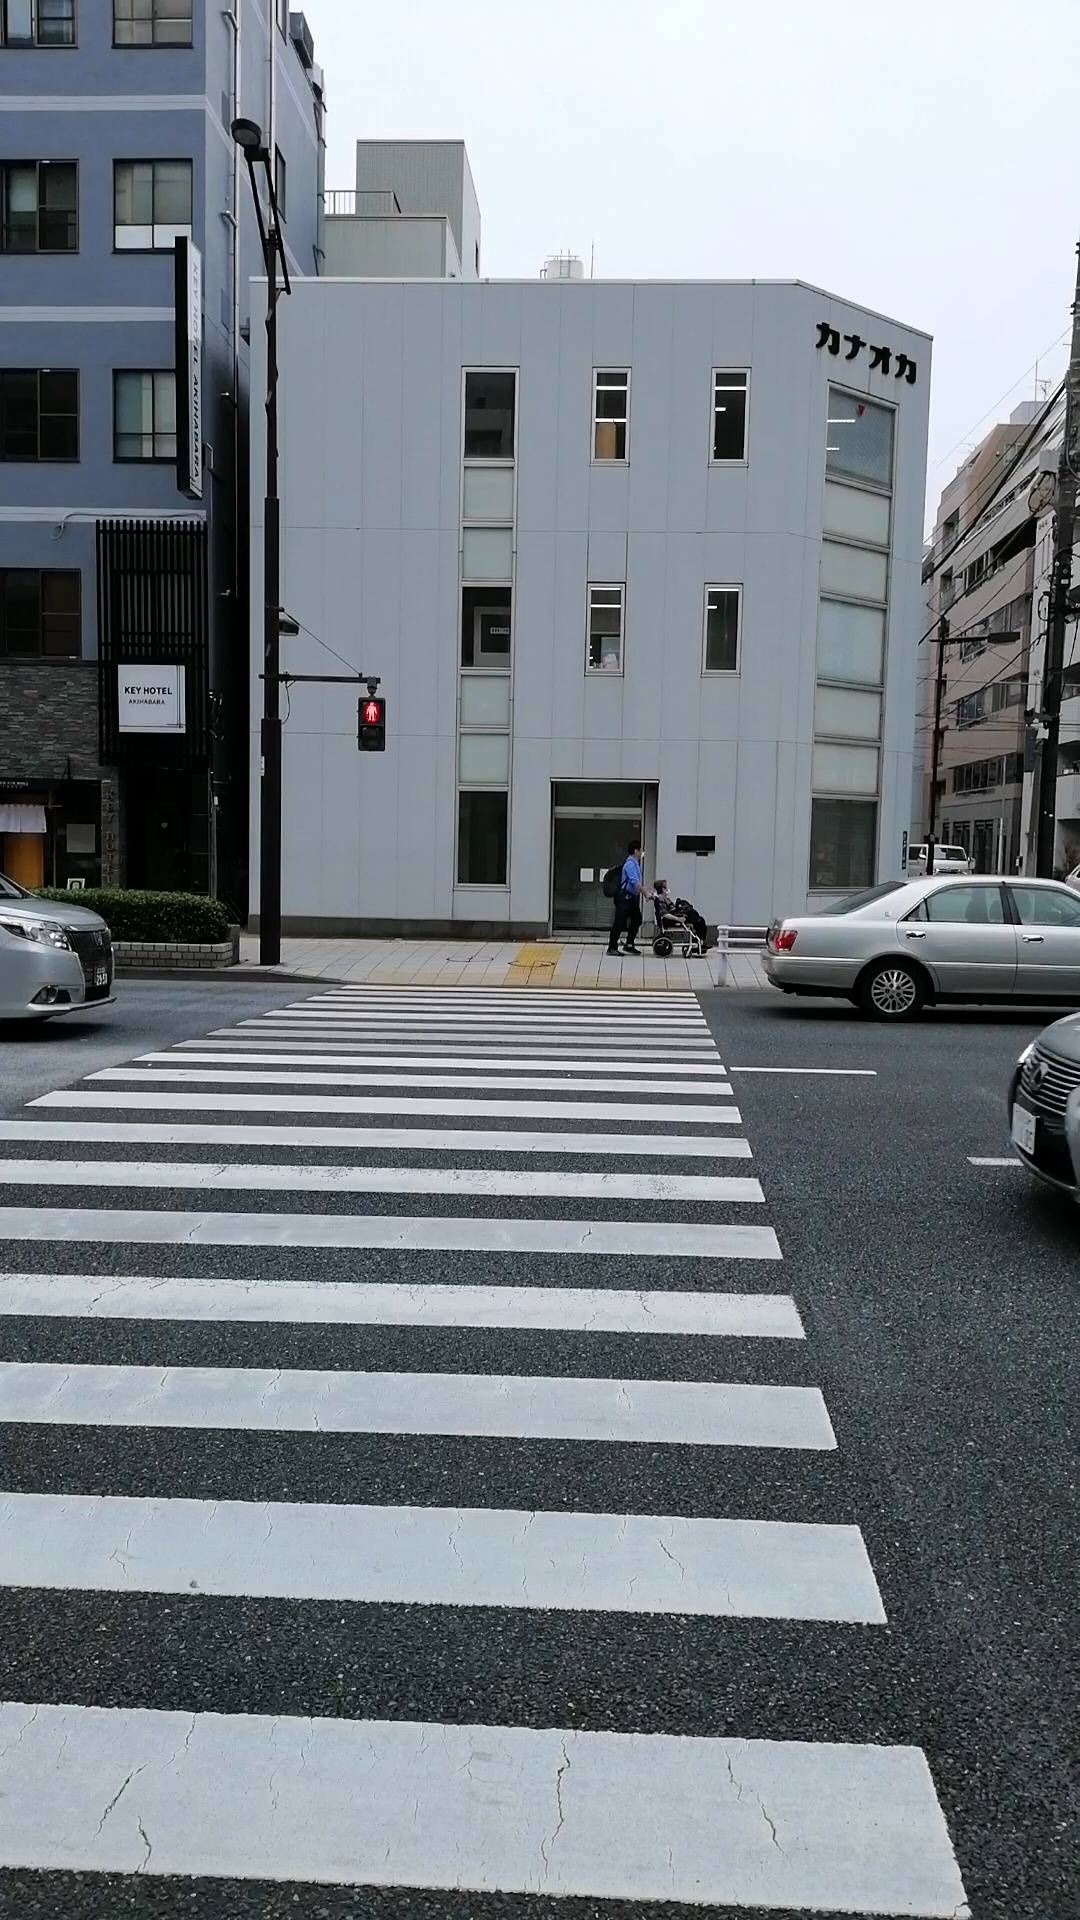red: (357, 698, 384, 752)
